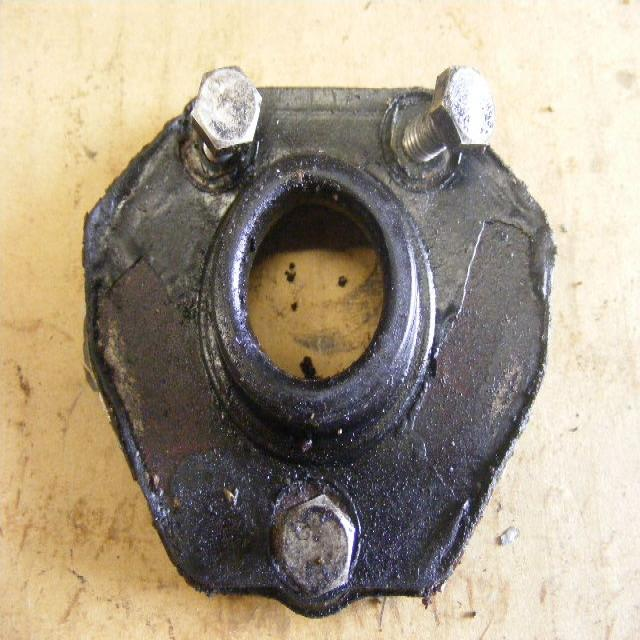bolt head: (273, 491, 357, 605), (427, 60, 501, 157), (189, 63, 265, 157)
